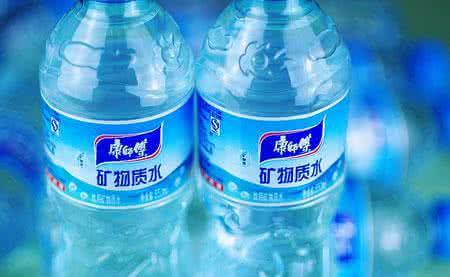amwater: (30, 1, 197, 270), (197, 4, 352, 271)
